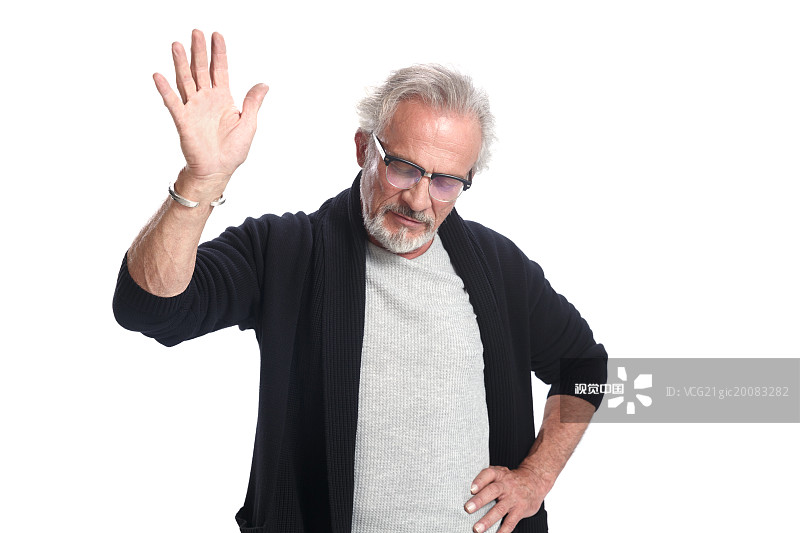no-phone: (139, 15, 288, 208), (447, 437, 572, 533)
